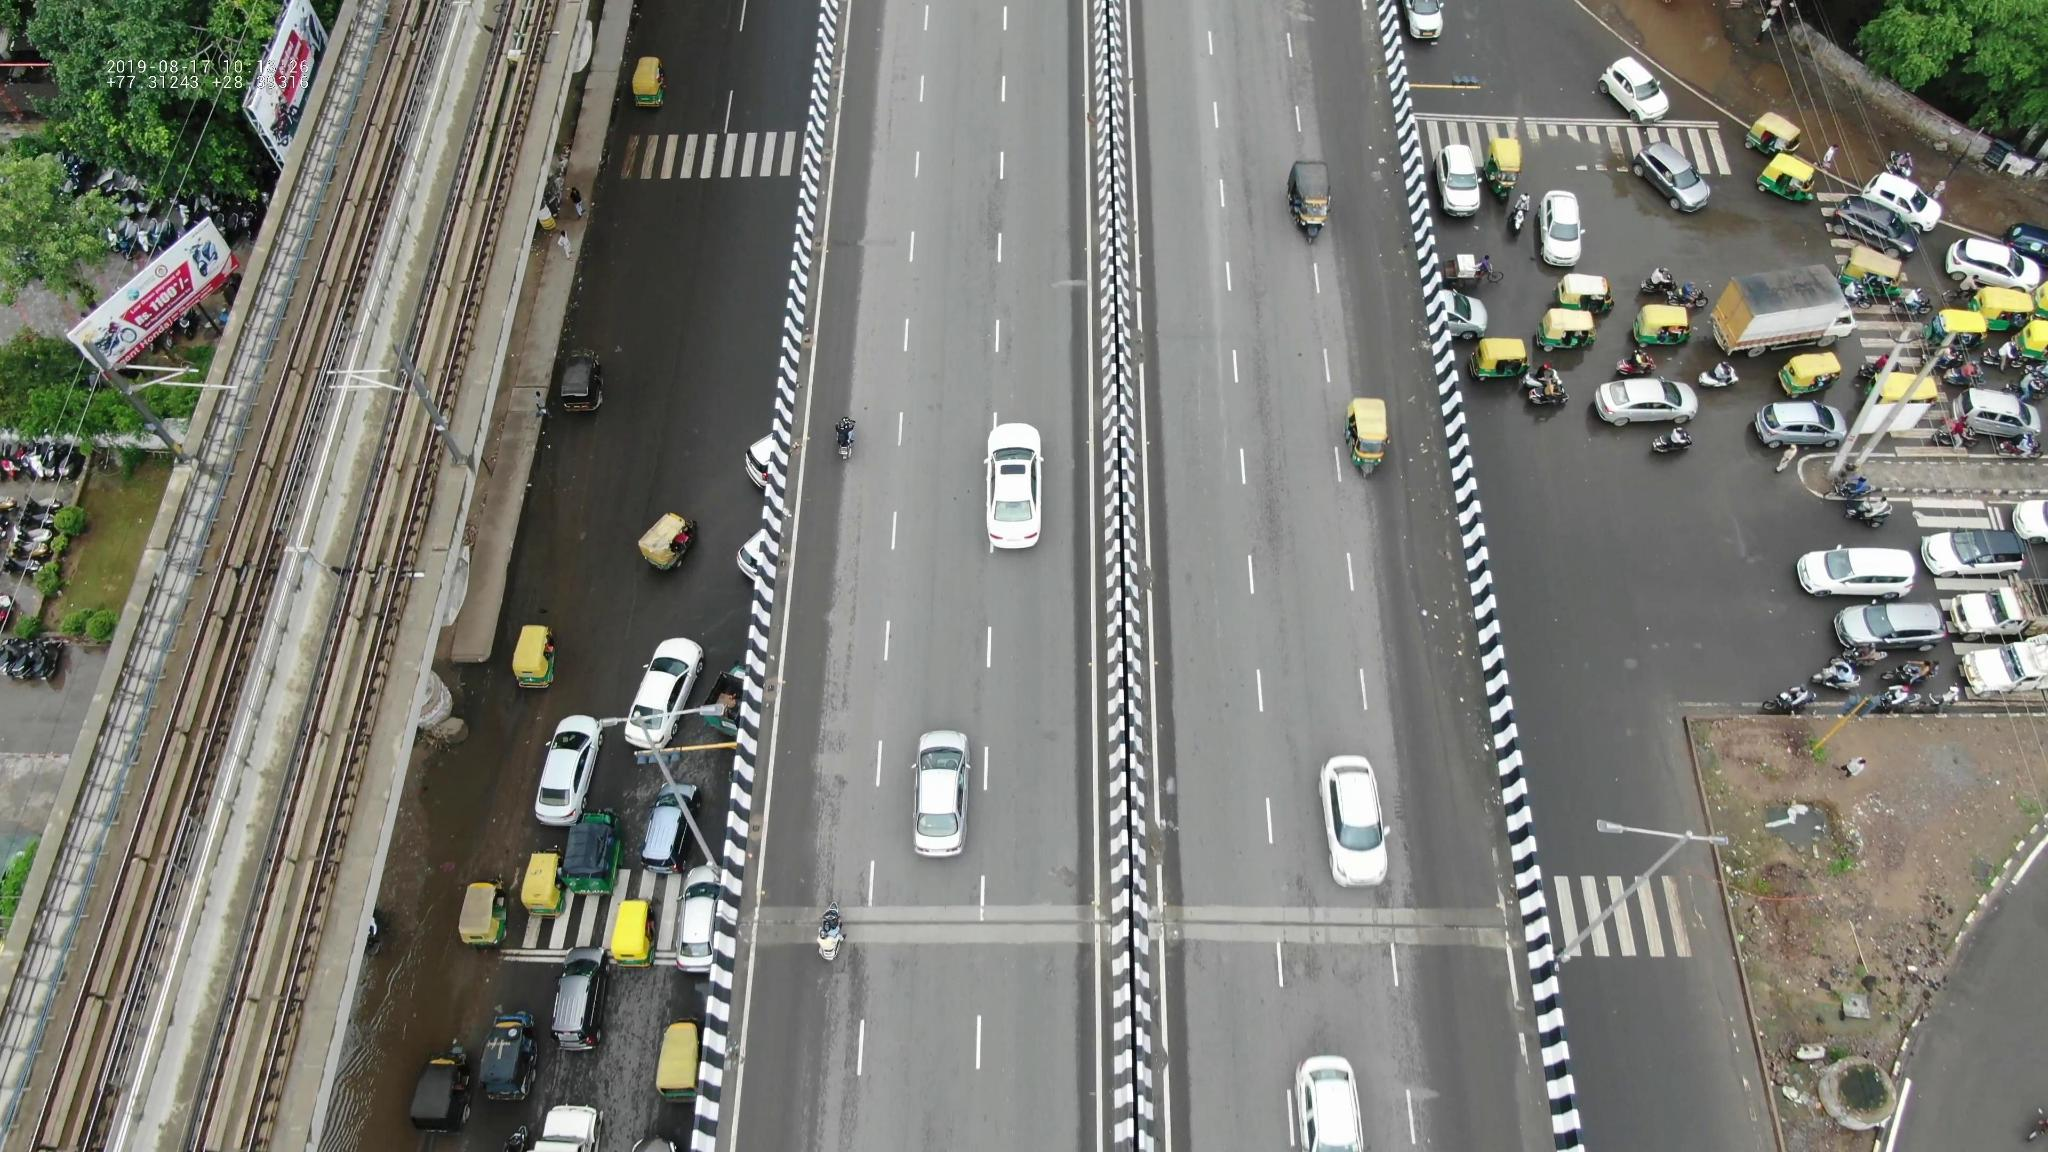Waterlogging: (1405, 459, 1491, 713), (1356, 186, 1438, 392)
